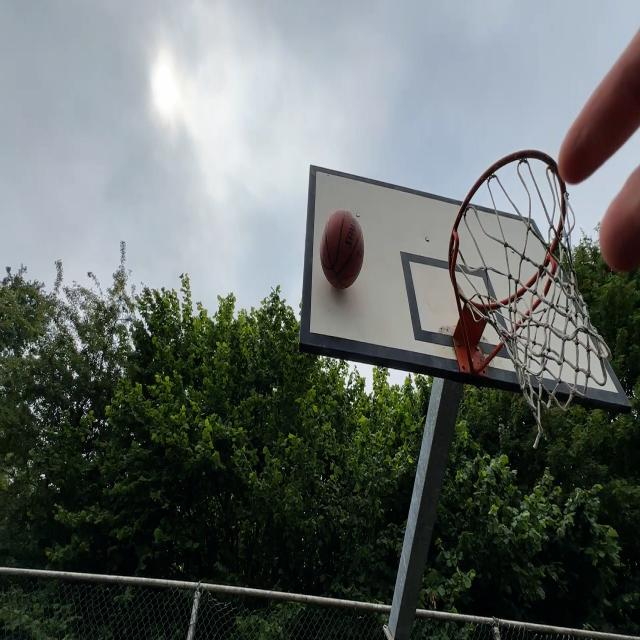rebound_hit: (319, 208, 365, 297)
